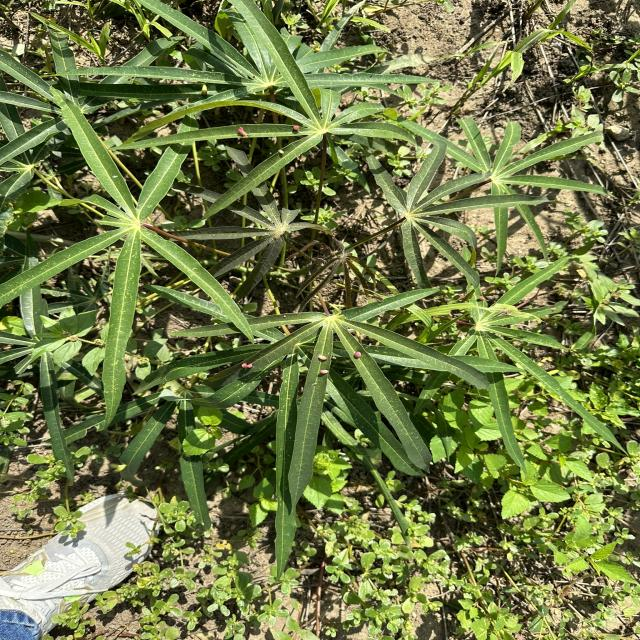Mosca: (311, 353, 338, 386), (267, 149, 307, 169), (227, 345, 255, 372), (282, 118, 314, 136), (351, 344, 372, 370), (231, 124, 253, 147)
